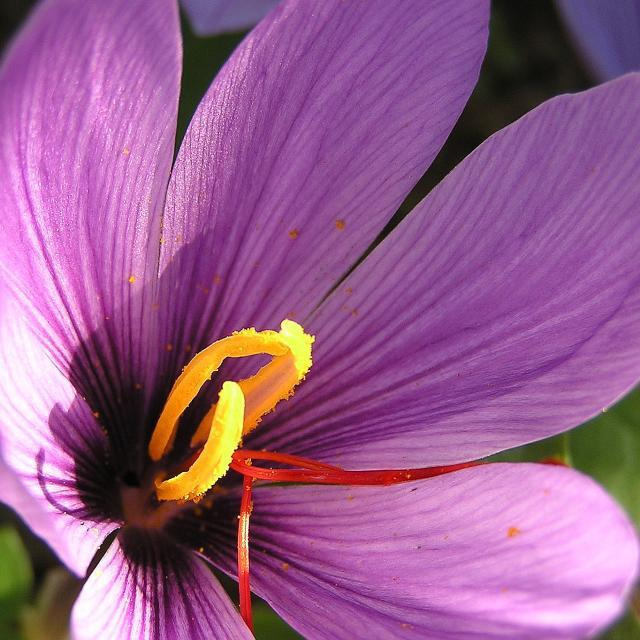Flower: (1, 0, 640, 640)
stigma: (222, 438, 482, 490), (220, 484, 274, 623)
